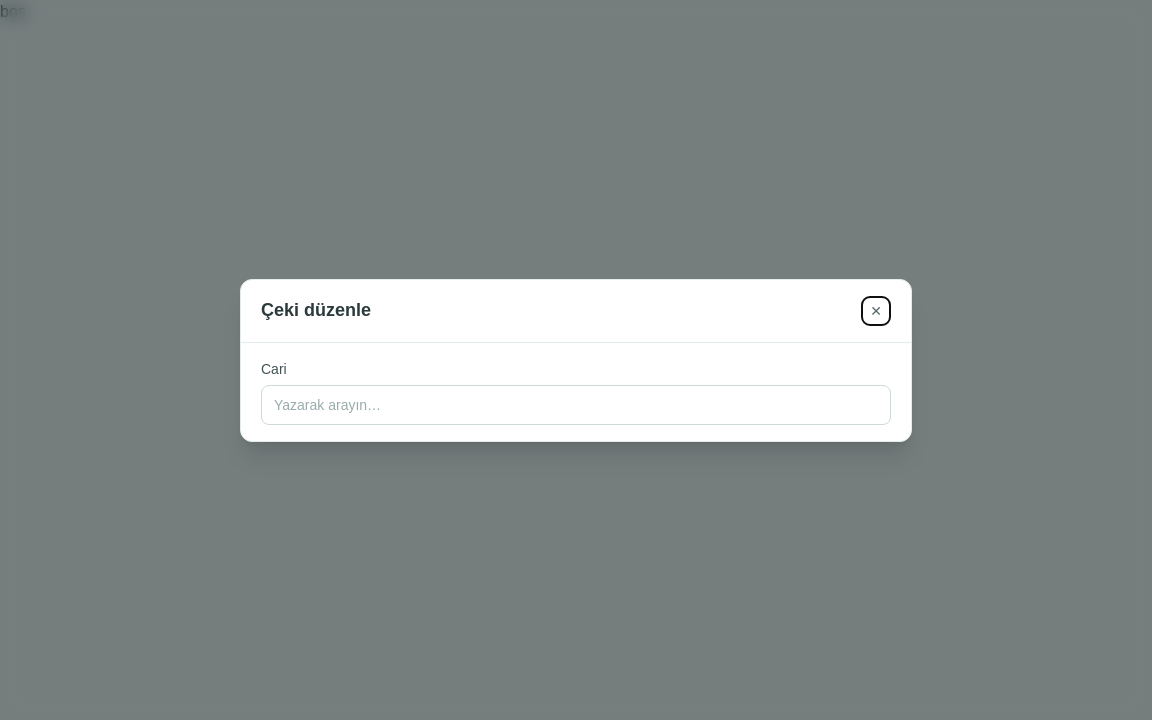
Scenario: aranabilir seçici › DİYALOG İÇİNDE Esc önce listeyi kapatır, formu değil
The width and height of the screenshot is (1152, 720).
Later steps or results of the test are not shown.
Focus the dropdown labelled "Cari" at (576, 404), box [261,384,891,424]
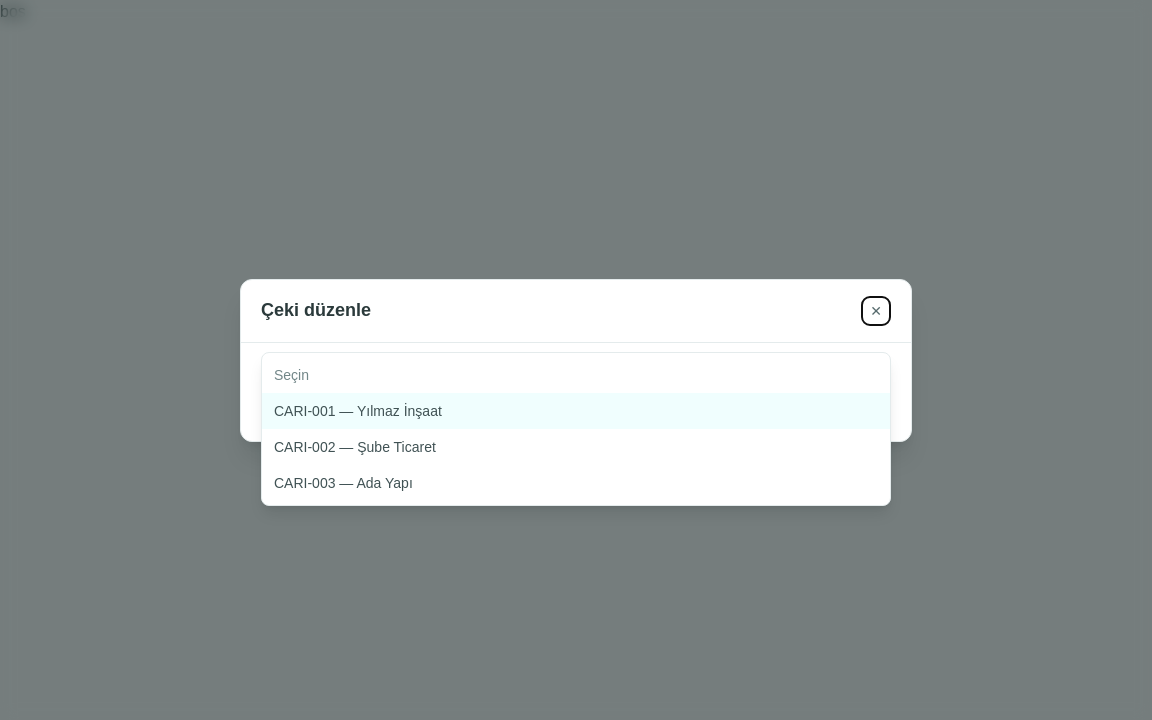
Check: the list is shown, box [261,352,891,506]
